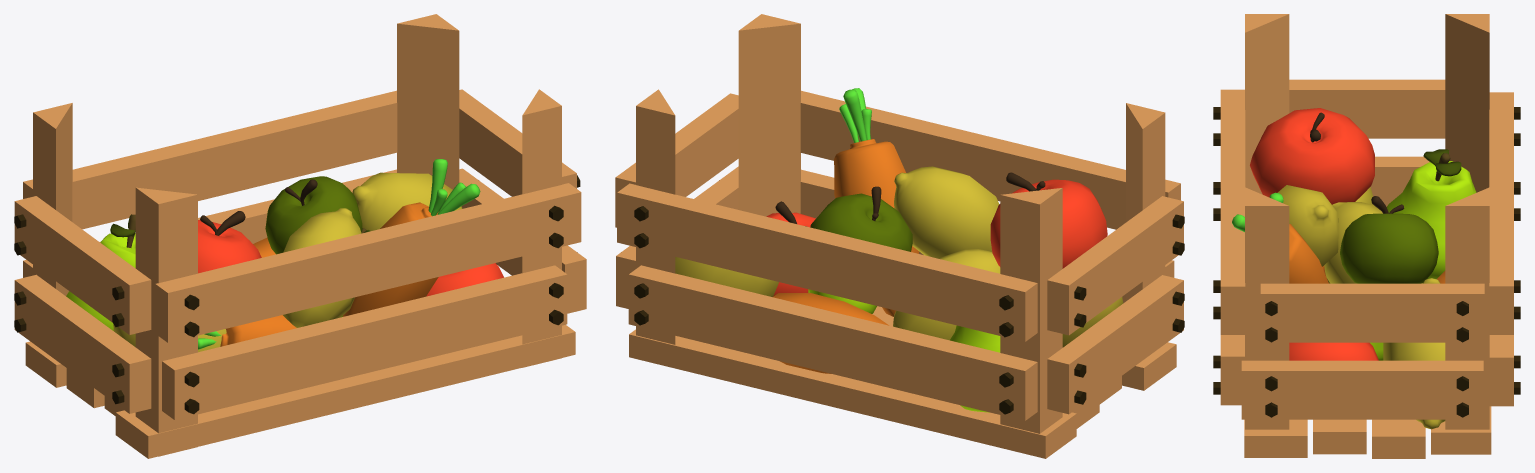
File: Fruits_Box.fbx
3 views of the same model, side by side, from view 1: azimuth 30°, elevation 25°; view 2: azimuth 150°, elevation 25°; view 3: azimuth 270°, elevation 25° (orthographic). The views are drawn at different scales.
Visible parts, largest first — view 1: Kasa, Lemon.002, Civi; view 2: Kasa, Lemon.002, Civi; view 3: Kasa, Lemon.002, Civi.
Part boxes in pixels (<box>): Kasa: <box>14,14,586,458</box>; Lemon.002: <box>66,159,503,352</box>; Civi: <box>14,175,580,414</box>; Kasa: <box>615,14,1183,458</box>; Lemon.002: <box>675,88,1123,412</box>; Civi: <box>634,180,1184,414</box>; Kasa: <box>1220,14,1513,458</box>; Lemon.002: <box>1232,108,1476,429</box>; Civi: <box>1213,107,1520,417</box>.
Bounding box in the file's own units: 473 × 247 × 280.
